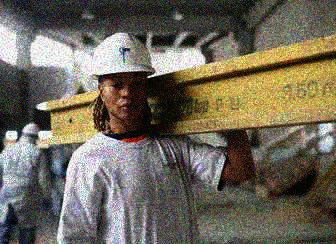helmet: (88, 31, 156, 124), (20, 119, 41, 144)
